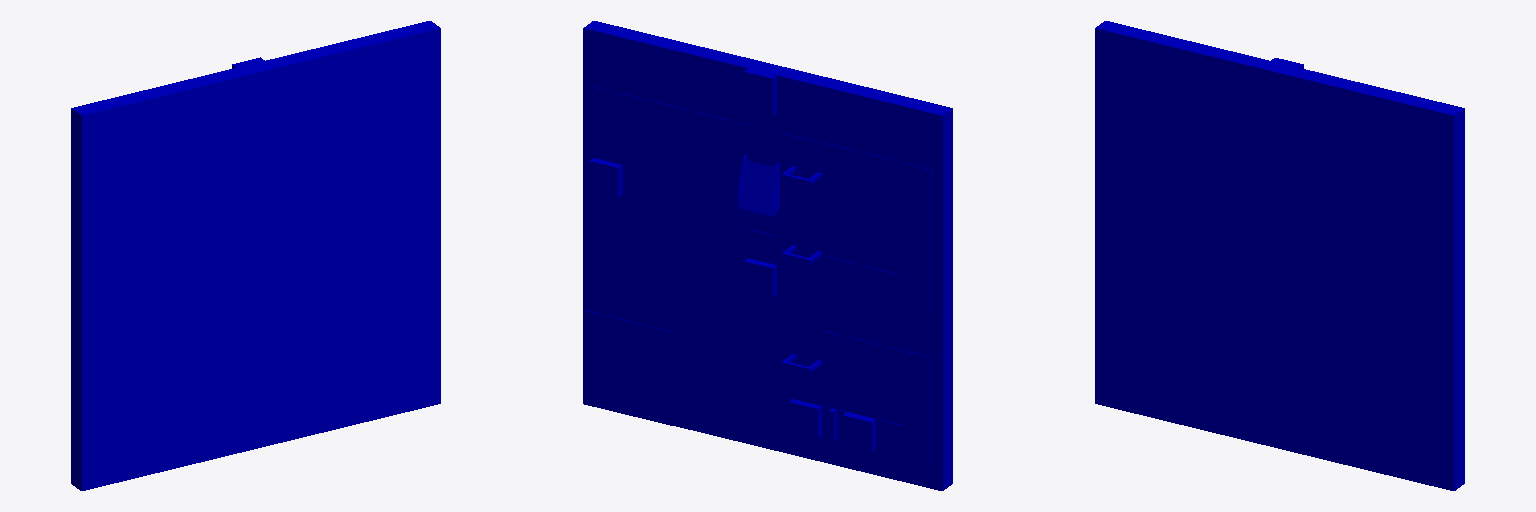
URDF robot description (sldprt_model):
<?xml version="1.0"?>
<robot name="sldprt_model">
  <link name="map"/>

  <joint name="map_to_model" type="fixed">
    <parent link="map"/>
    <child link="sldprt_model"/>
    <origin xyz="0 0 0" rpy="0 0 0"/>
  </joint>

  <link name="sldprt_model">
    <visual>
      <origin xyz="0 0 0" rpy="0 0 0"/>
      <geometry>
        <mesh filename="package://slam_pkg/meshes/model.STL" scale="1 1 1"/>
      </geometry>
      <material name="blue">
        <color rgba="0.0 0.0 0.8 1.0"/>
      </material>
    </visual>
    <collision>
      <origin xyz="0 0 0" rpy="0 0 0"/>
      <geometry>
        <mesh filename="package://slam_pkg/meshes/model.STL" scale="1 1 1"/>
      </geometry>
    </collision>
  </link>
</robot>

--- Render facts (derived) ---
3 views of the same robot in one strip: view 1: azimuth 30°, elevation 25°; view 2: azimuth 150°, elevation 25°; view 3: azimuth 330°, elevation 25° (orthographic).
Model sldprt_model with 2 links and 1 joints (1 fixed), rooted at map, posed all joints at 0.
Links seen in each view (by area): view 1: sldprt_model; view 2: sldprt_model; view 3: sldprt_model.
Boxes of the visible links, left/top/right/bottom form: sldprt_model: left=71, top=21, right=440, bottom=490; sldprt_model: left=583, top=21, right=952, bottom=490; sldprt_model: left=1095, top=21, right=1464, bottom=490.
Bounding box of the posed robot: 10000 × 1070 × 10000 m (x, y, z).
Meshes: 1 distinct files referenced, 1 mesh visuals loaded (1 binary STL).